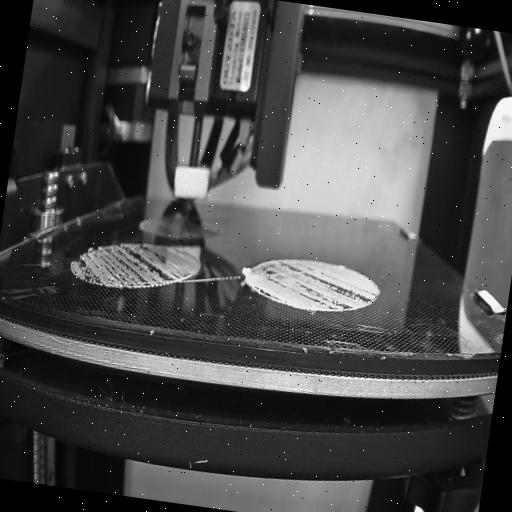under_extrusion: (68, 228, 194, 297), (254, 254, 378, 316)
